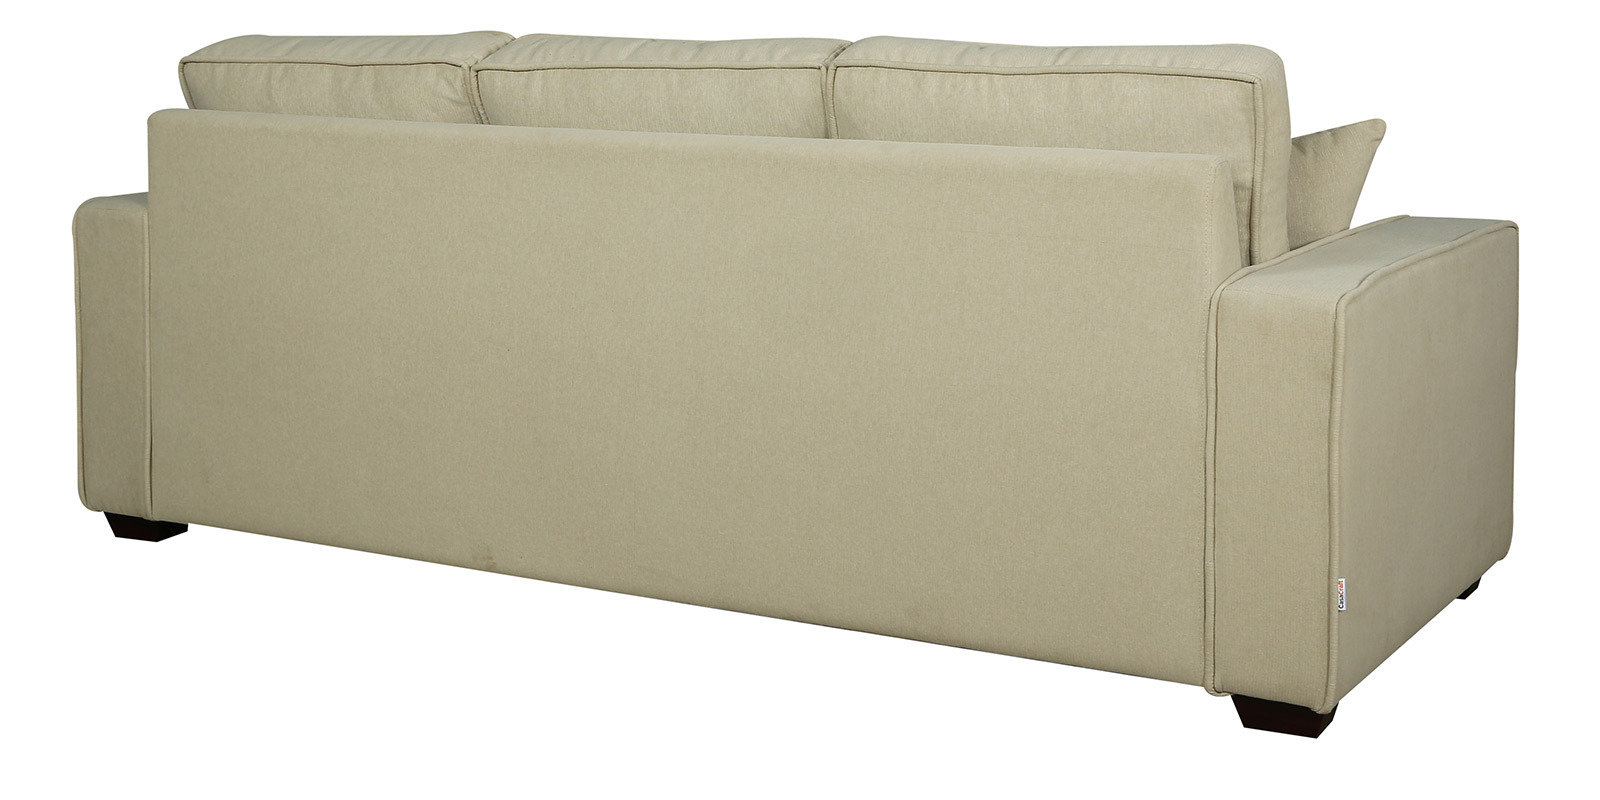Hugo Three Seater Sofa in Beige Colour by CasaCraft: (68, 10, 1553, 768)
